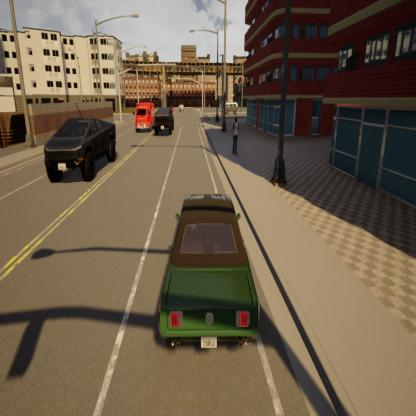Cars: (147, 183, 264, 357), (38, 114, 120, 188), (151, 104, 179, 140), (134, 99, 156, 136), (229, 116, 243, 165), (221, 102, 239, 117)
